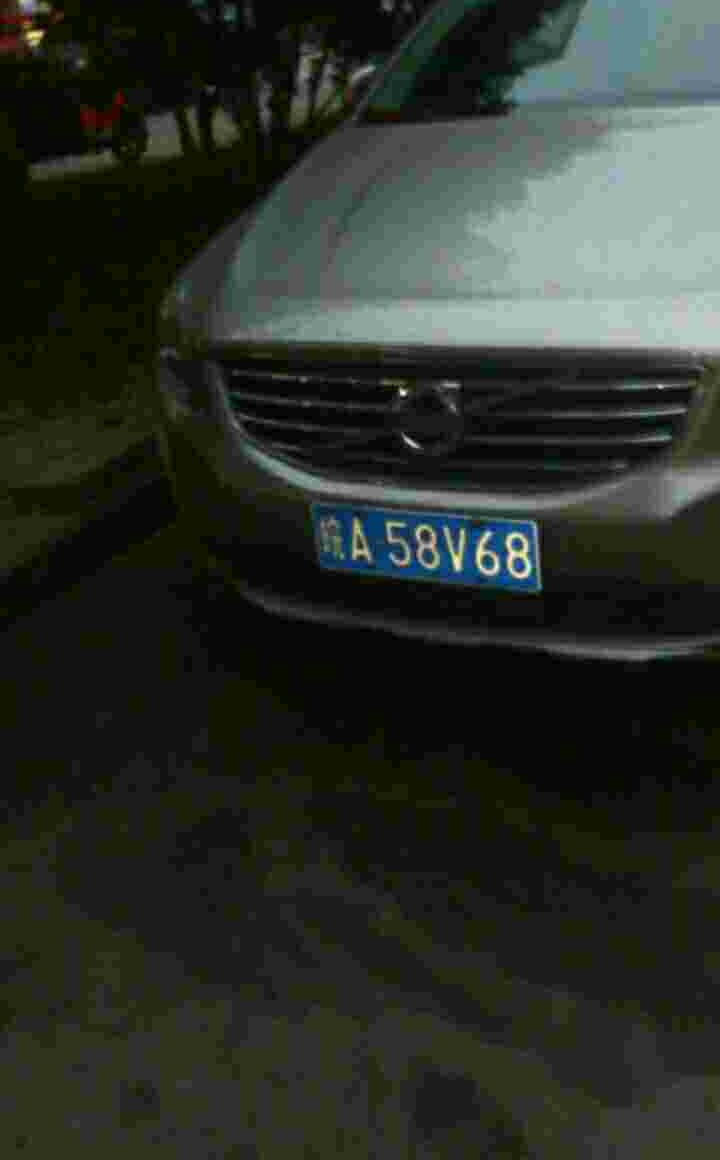license_plate: (305, 506, 537, 593)
